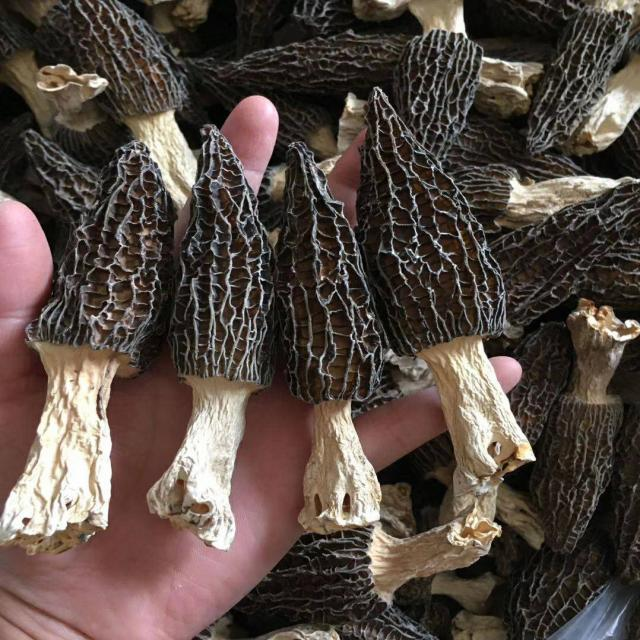Morchella esculenta: (0, 142, 175, 557), (363, 85, 539, 480), (152, 122, 272, 547), (275, 135, 400, 528), (546, 304, 640, 549)
